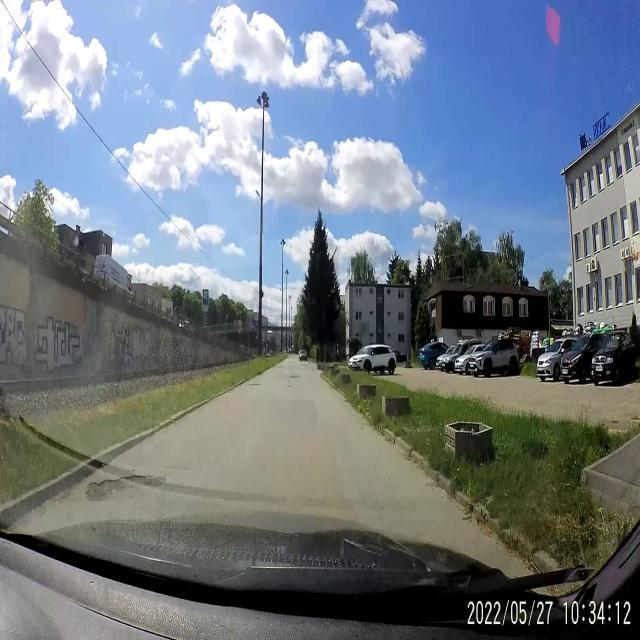Pothole: (84, 472, 164, 501), (244, 376, 268, 391), (288, 370, 302, 382), (284, 384, 294, 388)
